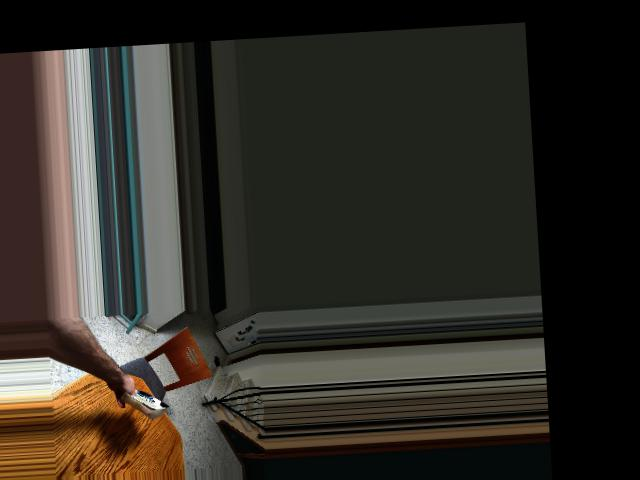cheese: (119, 384, 170, 421)
